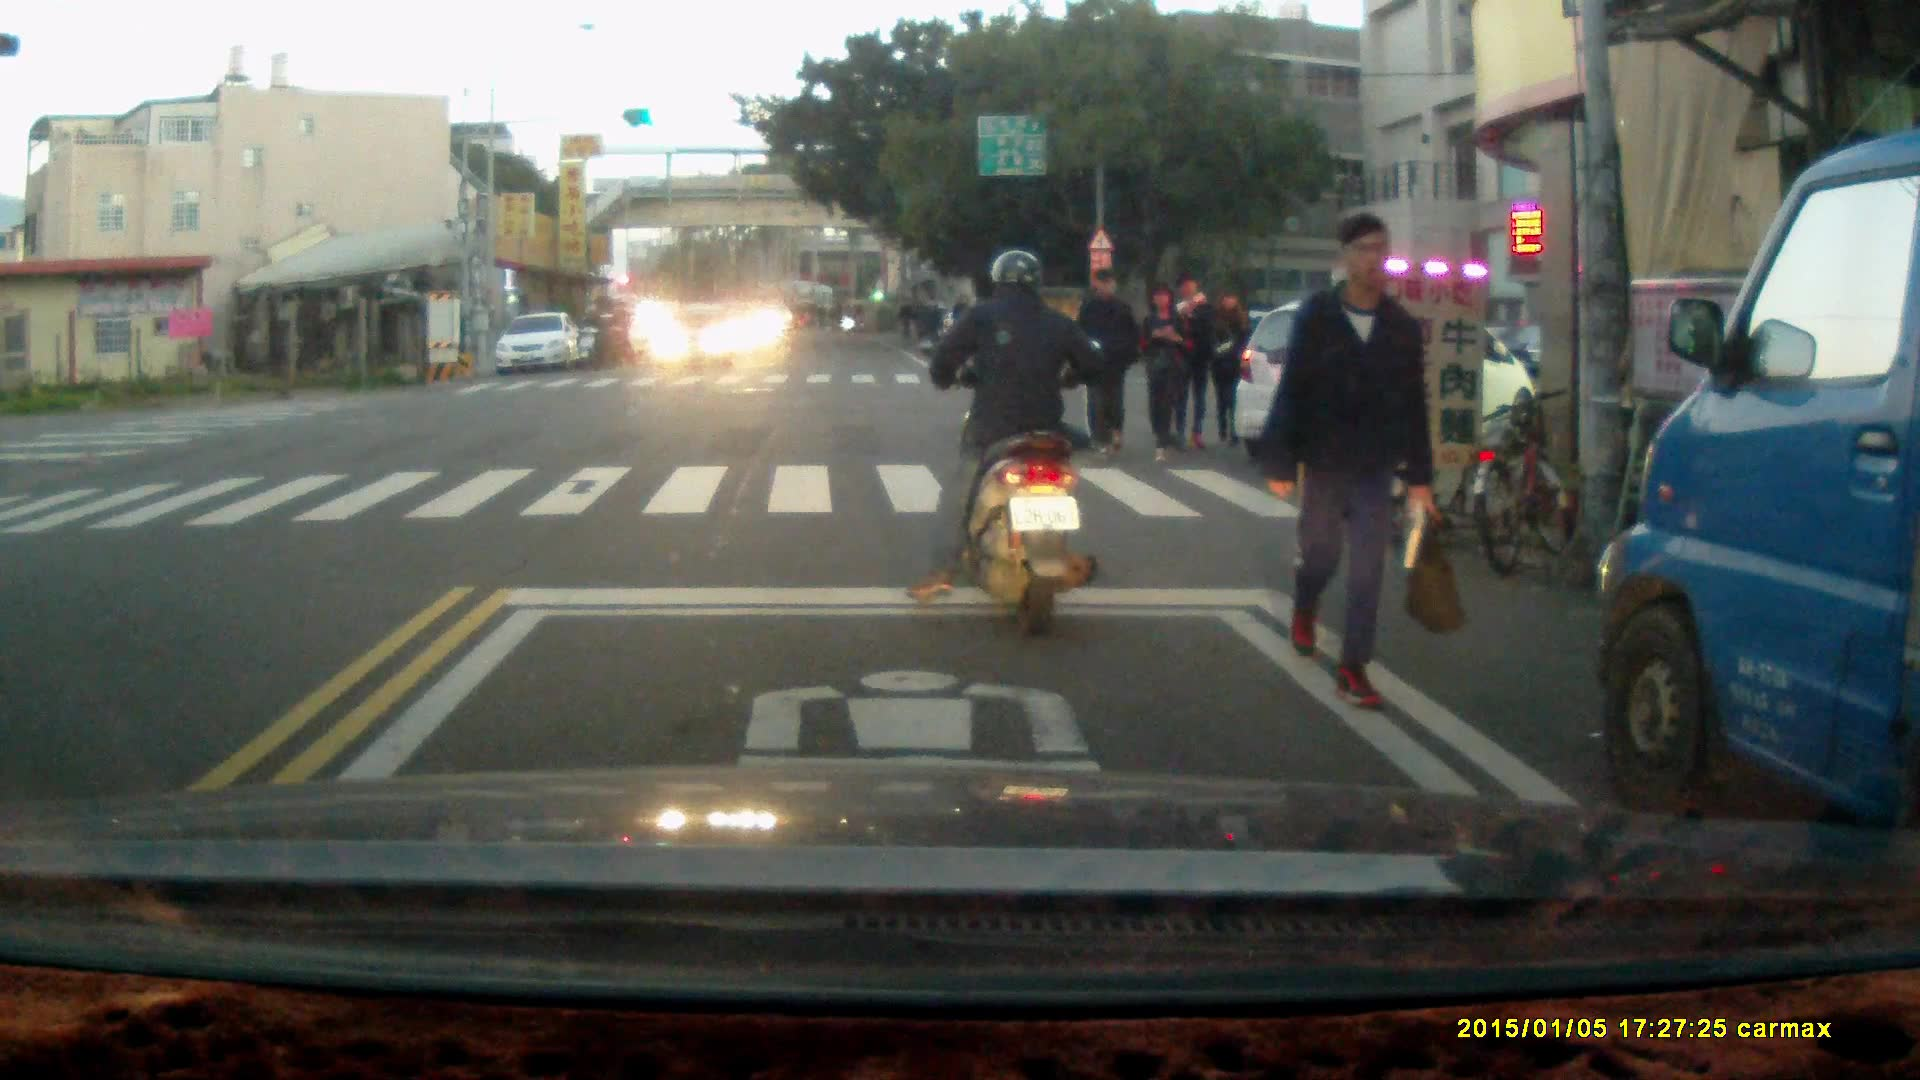pedestrian: (1260, 211, 1436, 710), (1064, 265, 1138, 462), (1135, 281, 1187, 464), (1201, 284, 1249, 452), (1167, 271, 1209, 455)
rider: (911, 246, 1102, 641), (601, 294, 636, 368), (575, 300, 609, 373)
vehicle: (1593, 120, 1920, 901), (648, 296, 743, 372), (493, 311, 584, 378)
